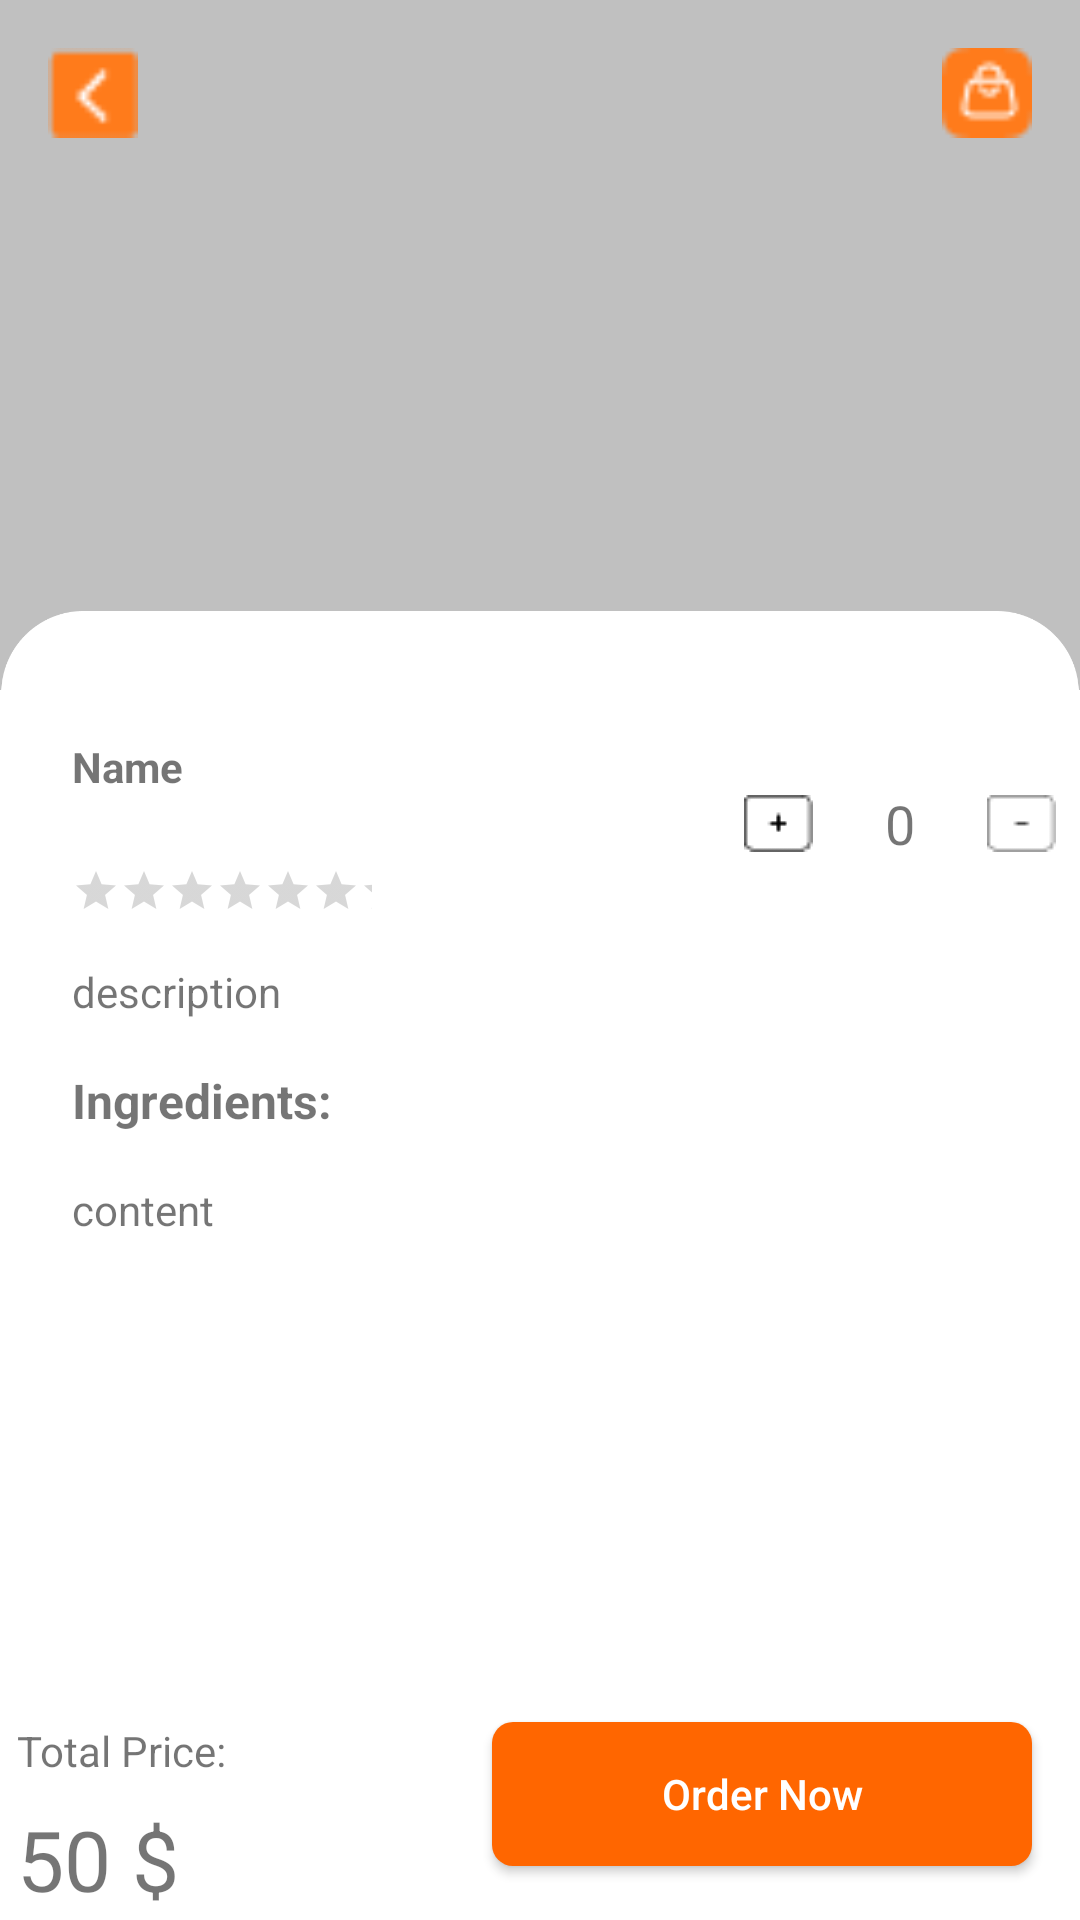

Locate icon controls on the screen. Image size 1080*1920, boxes as rect(x1, y1, x2, y2).
add: rect(744, 795, 813, 852)
back: rect(48, 51, 138, 138)
delete: rect(987, 795, 1056, 852)
order: rect(942, 48, 1032, 138)
